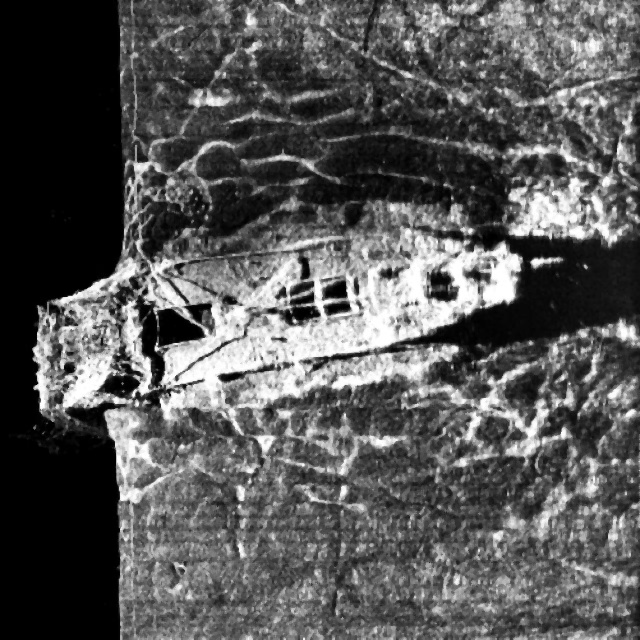Ship: (21, 195, 640, 437)
